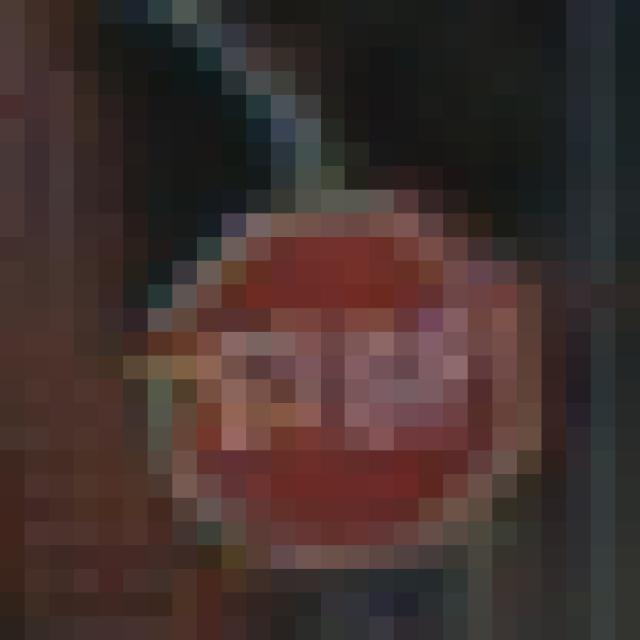STOP: (124, 143, 518, 523)
